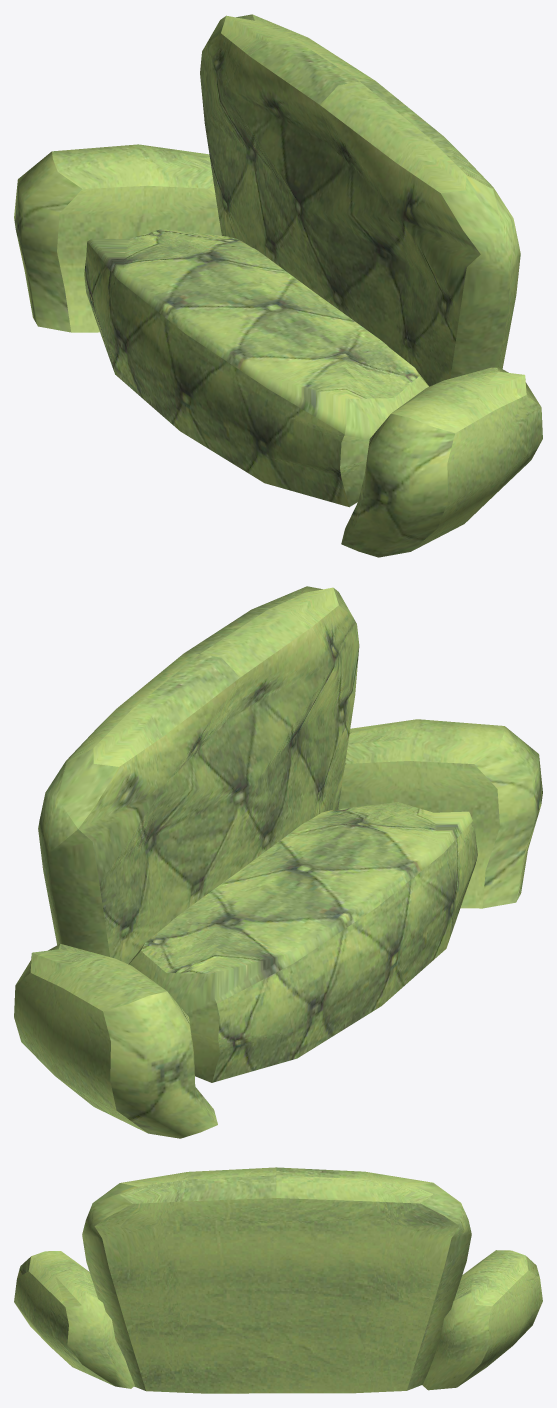
File: english_canap_fixed.fbx
3 renders of one model, top to bottom at view 1: azimuth 30°, elevation 25°; view 2: azimuth 150°, elevation 25°; view 3: azimuth 270°, elevation 25°, orthographic. The views are drawn at different scales.
Visible parts, largest first — view 1: english_canap_red__2_; view 2: english_canap_red__2_; view 3: english_canap_red__2_.
Boxes of the visible parts, left/top/right/bottom form: english_canap_red__2_: left=14, top=14, right=542, bottom=557; english_canap_red__2_: left=14, top=586, right=542, bottom=1138; english_canap_red__2_: left=14, top=1167, right=542, bottom=1393.
Bounding box in the file's own units: 98.52 × 136 × 308.
